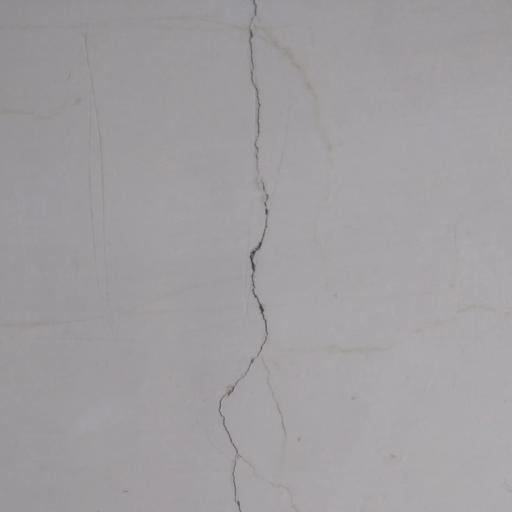major_crack: (189, 0, 299, 512)
